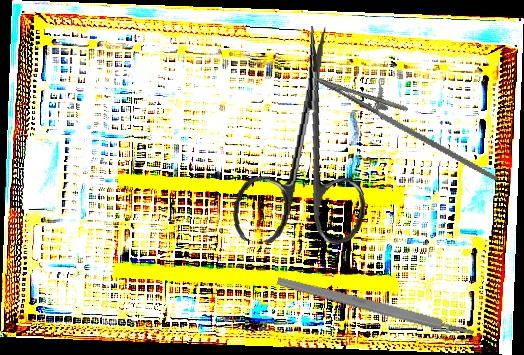Iris Scissors: (231, 20, 381, 251)
Needle Holder: (306, 61, 514, 183)
Scalpel Handle: (275, 274, 476, 340)
